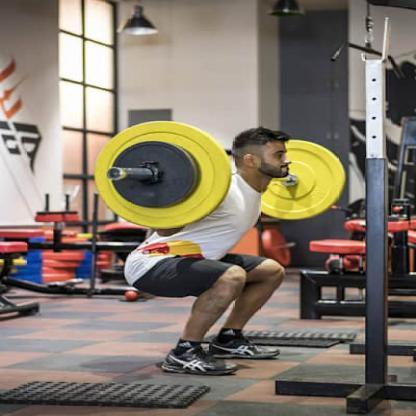barbell: (93, 118, 347, 232)
